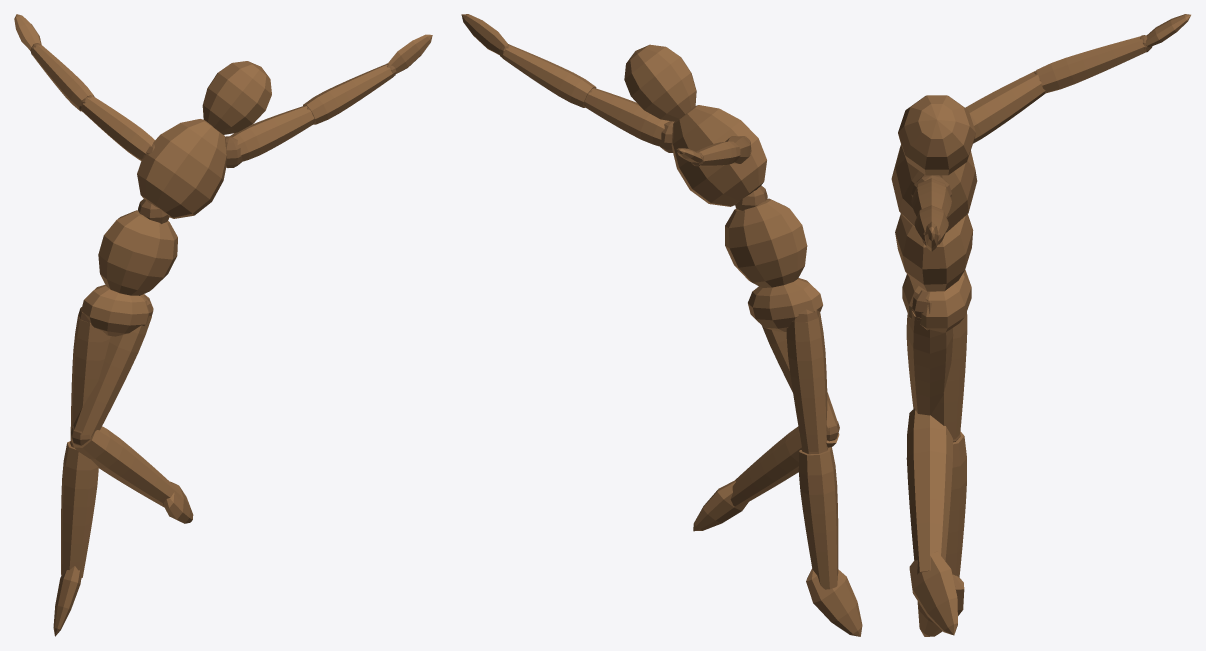
The model's file is mannequin.glb.
The picture shows the model from 3 angles, left to right: view 1: azimuth 30°, elevation 25°; view 2: azimuth 150°, elevation 25°; view 3: azimuth 270°, elevation 25°; orthographic projection. The views are drawn at different scales.
Visible parts, largest first — view 1: chest, abdomen, head, shin_R, shin_L, thigh_L, thigh_R, pelvis, upper_arm_L, forearm_L, upper_arm_R, forearm_R (+3 smaller); view 2: chest, abdomen, shin_R, thigh_R, head, shin_L, pelvis, upper_arm_L, forearm_L, foot_R, foot_L, thigh_L (+2 smaller); view 3: shin_L, head, abdomen, thigh_L, forearm_R, chest, foot_L, upper_arm_R, pelvis, thigh_R, shin_R, upper_arm_L (+3 smaller).
Boxes of the visible parts, x1=… form: chest: x1=137, y1=119, x2=227, y2=218; abdomen: x1=98, y1=210, x2=177, y2=295; head: x1=202, y1=61, x2=271, y2=134; shin_R: x1=61, y1=441, x2=98, y2=578; shin_L: x1=71, y1=426, x2=180, y2=507; thigh_L: x1=73, y1=316, x2=151, y2=437; thigh_R: x1=70, y1=314, x2=110, y2=445; pelvis: x1=81, y1=284, x2=153, y2=336; upper_arm_L: x1=230, y1=106, x2=314, y2=161; forearm_L: x1=303, y1=64, x2=392, y2=124; upper_arm_R: x1=80, y1=95, x2=154, y2=160; forearm_R: x1=31, y1=44, x2=94, y2=111; chest: x1=671, y1=105, x2=766, y2=206; abdomen: x1=725, y1=198, x2=807, y2=287; shin_R: x1=798, y1=447, x2=838, y2=589; thigh_R: x1=786, y1=313, x2=827, y2=451; head: x1=624, y1=44, x2=696, y2=121; shin_L: x1=730, y1=426, x2=839, y2=506; pelvis: x1=748, y1=278, x2=822, y2=331; upper_arm_L: x1=584, y1=88, x2=669, y2=146; forearm_L: x1=503, y1=45, x2=596, y2=107; foot_R: x1=806, y1=568, x2=862, y2=636; foot_L: x1=693, y1=480, x2=748, y2=531; thigh_L: x1=762, y1=326, x2=837, y2=430; shin_L: x1=906, y1=408, x2=952, y2=574; head: x1=898, y1=95, x2=975, y2=175; abdomen: x1=895, y1=213, x2=973, y2=291; thigh_L: x1=906, y1=311, x2=953, y2=415; forearm_R: x1=1036, y1=36, x2=1146, y2=93; chest: x1=891, y1=144, x2=977, y2=232; foot_L: x1=909, y1=551, x2=957, y2=635; upper_arm_R: x1=965, y1=71, x2=1045, y2=143; pelvis: x1=902, y1=270, x2=971, y2=332; thigh_R: x1=931, y1=312, x2=967, y2=439; shin_R: x1=945, y1=431, x2=966, y2=577; upper_arm_L: x1=911, y1=178, x2=951, y2=216.
Bounding box in the file's own units: 6.23 × 8.25 × 3.38.
